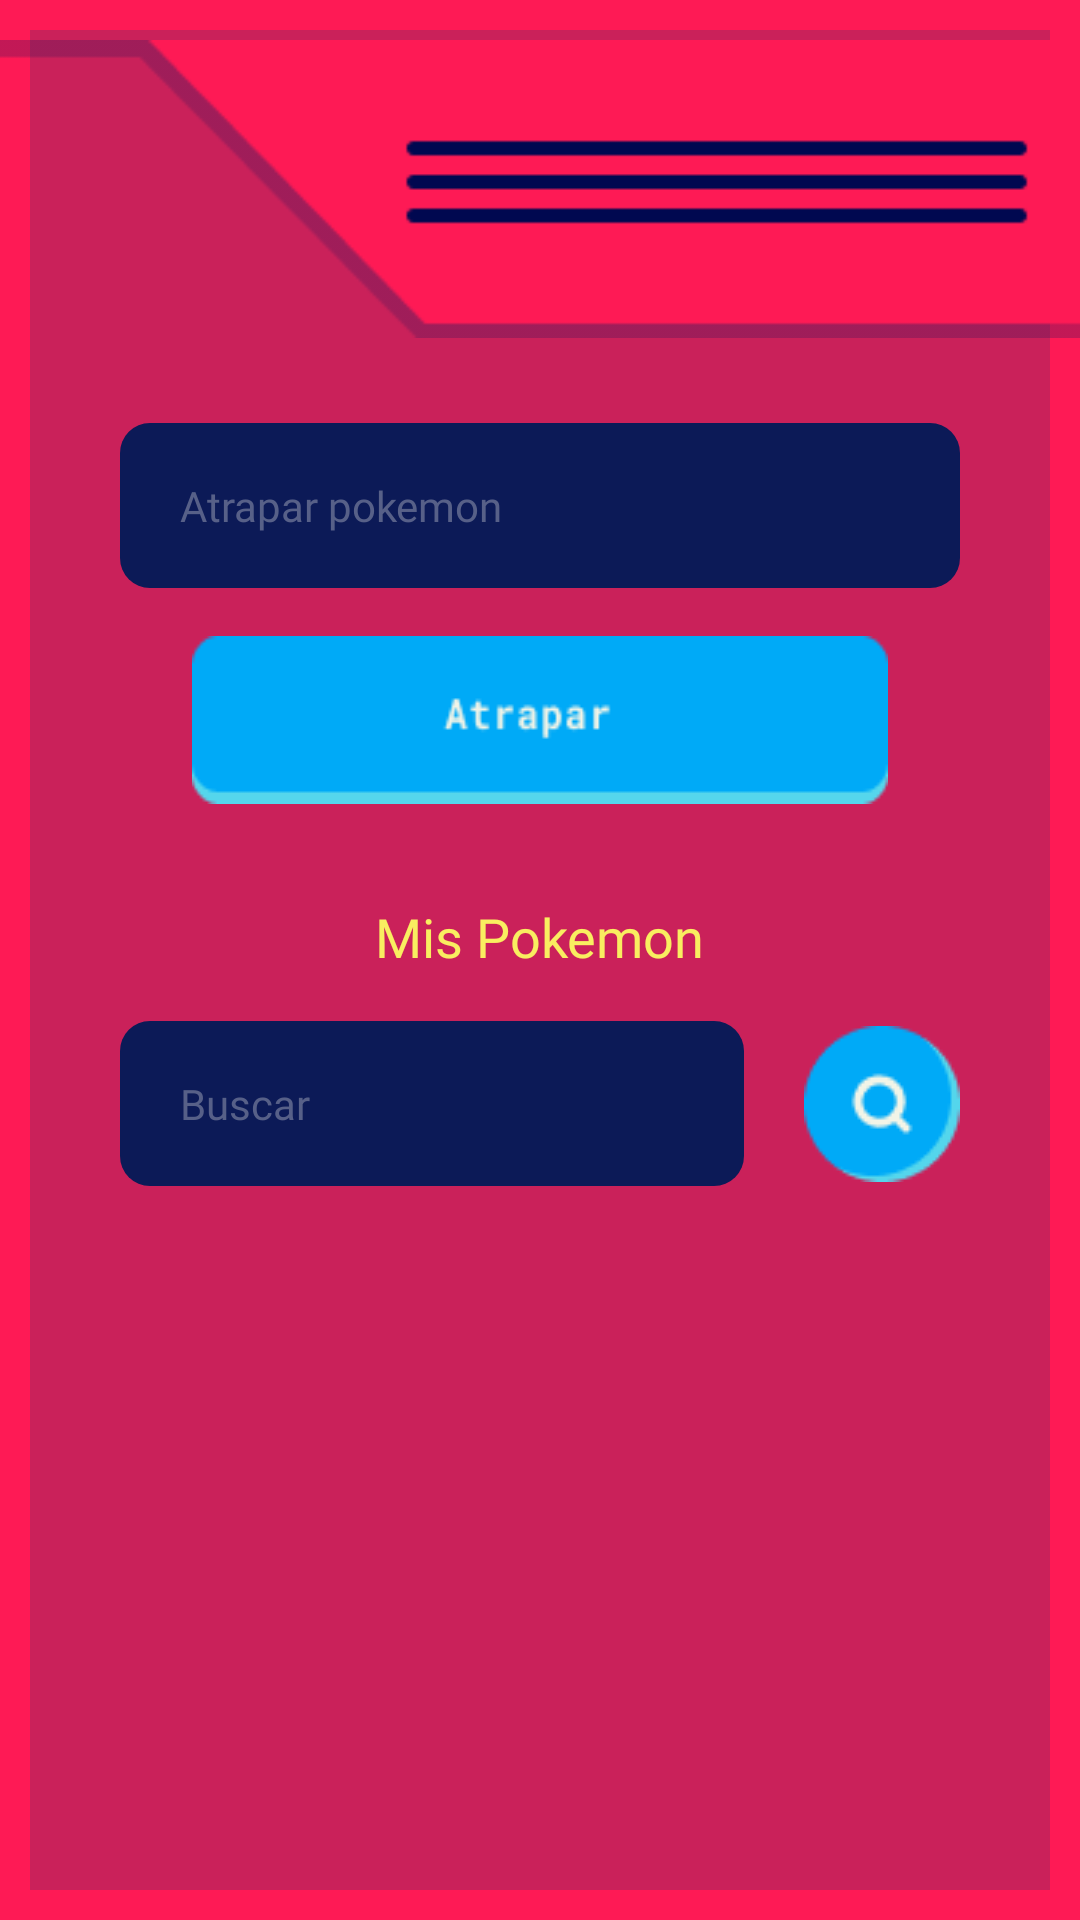

Screen size 1080px×1920px. Icon name, then its center in pixels as (x,y):
search: (882,1104)
